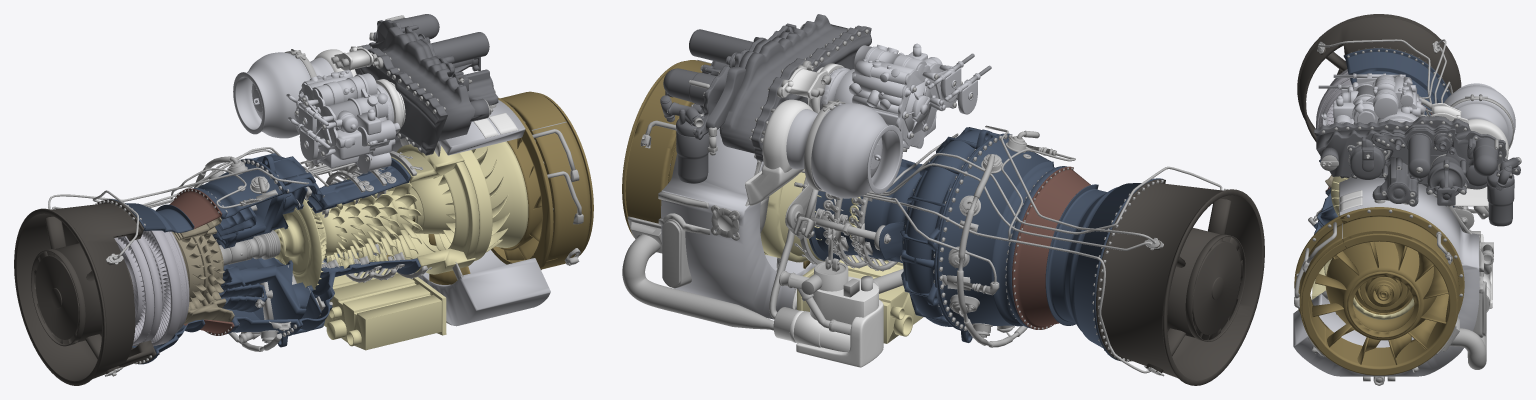
Rendered from T700-engine.glb.
The picture shows the model from 3 angles, left to right: view 1: azimuth 30°, elevation 25°; view 2: azimuth 150°, elevation 25°; view 3: azimuth 270°, elevation 25°; orthographic projection. The views are drawn at different scales.
Parts seen in each view (by area): view 1: Object.021, Object.010, Object.009, Object, Object.001, Object.006, Object.025, Object.018, Object.005, Object.011, Object.027, Object.004 (+12 smaller); view 2: Object, Object.021, Object.018, Object.010, Object.009, Object.025, Object.005, Object.008, Object.001, Object.019, Object.003, Object.015 (+5 smaller); view 3: Object.001, Object.009, Object.025, Object.010, Object, Object.021, Object.018, Object.020, Object.002, Object.015, Object.027, Object.016 (+6 smaller).
Part boxes in pixels (x1,y1,x2,y2): Object.021: (14, 199, 156, 385); Object.010: (233, 52, 400, 173); Object.009: (355, 14, 498, 155); Object: (48, 15, 566, 376); Object.001: (412, 91, 593, 269); Object.006: (324, 268, 446, 350); Object.025: (391, 100, 550, 326); Object.018: (107, 158, 300, 364); Object.005: (212, 153, 334, 347); Object.011: (391, 144, 492, 274); Object.027: (114, 230, 189, 346); Object.004: (273, 190, 412, 289); Object: (622, 24, 1227, 376); Object.021: (1096, 179, 1264, 385); Object.018: (936, 133, 1163, 361); Object.010: (786, 43, 991, 198); Object.009: (660, 14, 871, 183); Object.025: (661, 112, 822, 319); Object.005: (900, 127, 999, 342); Object.008: (774, 276, 883, 367); Object.001: (622, 60, 711, 236); Object.019: (1012, 166, 1090, 329); Object.003: (809, 159, 931, 263); Object.015: (745, 99, 812, 205); Object.001: (1294, 207, 1464, 375); Object.009: (1314, 116, 1520, 226); Object.025: (1293, 177, 1479, 376); Object.010: (1318, 73, 1515, 146); Object: (1308, 39, 1521, 385); Object.021: (1297, 14, 1461, 141); Object.018: (1314, 48, 1450, 226); Object.020: (1336, 252, 1448, 364); Object.002: (1294, 210, 1462, 372); Object.015: (1453, 119, 1508, 206); Object.027: (1316, 69, 1351, 129); Object.016: (1431, 103, 1468, 122).
Bounding box in the file's own units: 0.5957 × 0.2956 × 0.2623.
